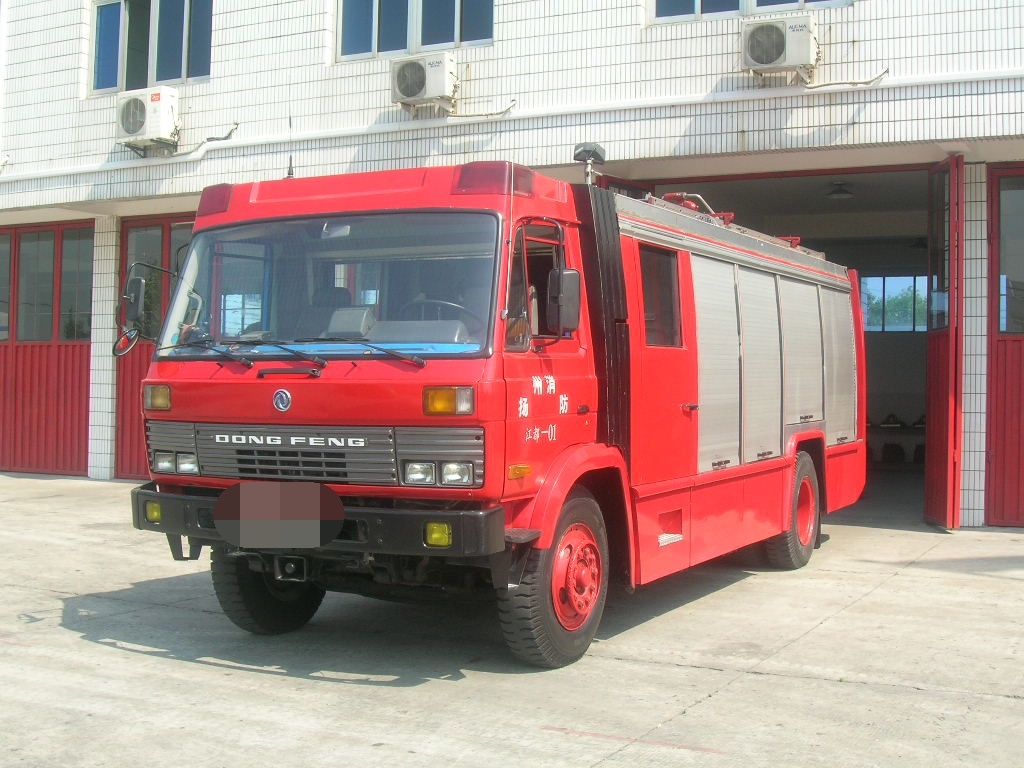fire engine: (137, 169, 876, 642)
